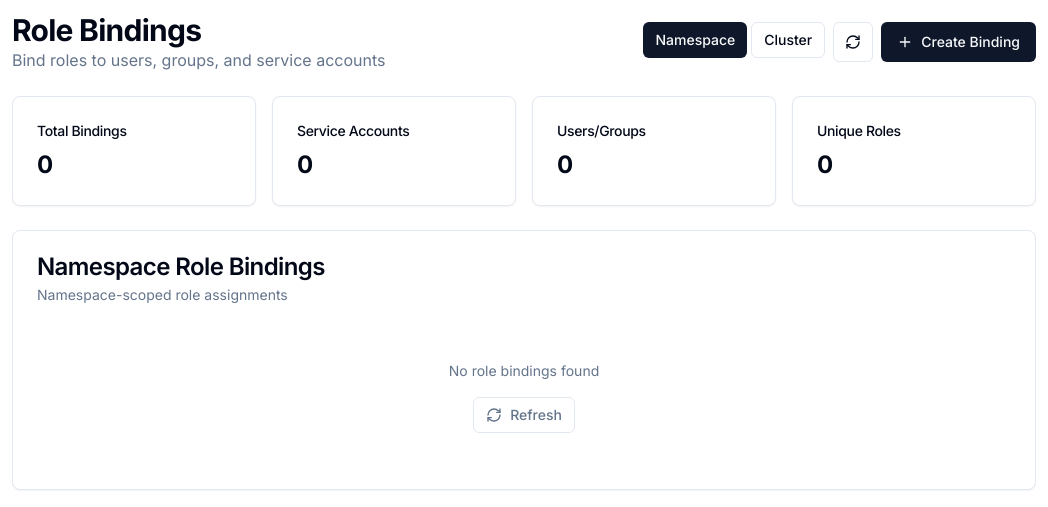
Scenario: RoleBindingsView › User Interactions › should switch between namespace and cluster bindings
This screenshot has width=1048, height=507.
Step 1. Click the button "Cluster" → (788, 40), box [751, 22, 825, 58]
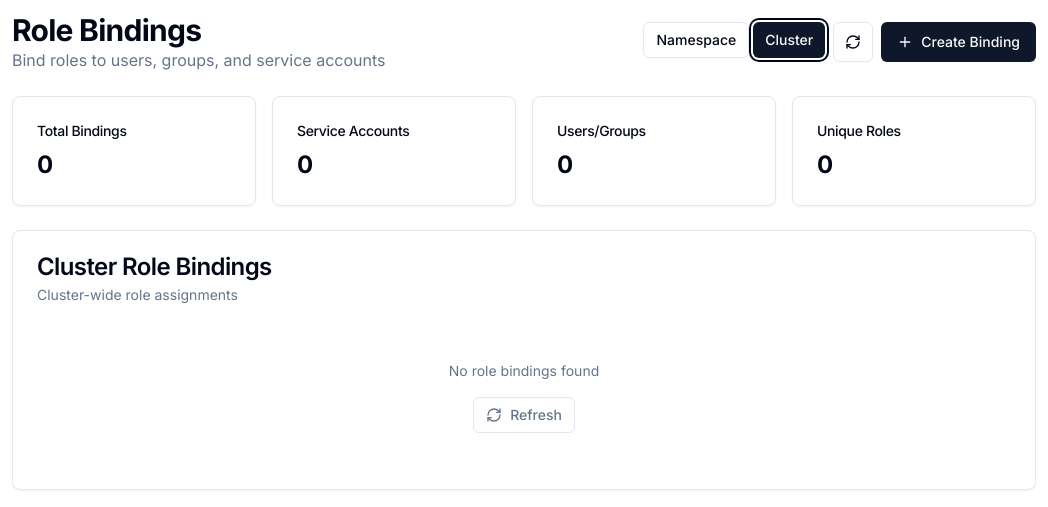
Expected: the heading "Cluster Role Bindings" is shown, [37, 252, 272, 281]
